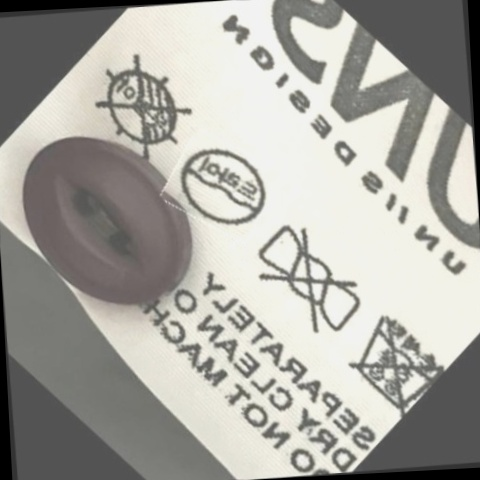DN_dry: (92, 55, 194, 160)
DN_wring: (251, 224, 367, 340)
dry_clean: (176, 139, 268, 235)
hand_wash: (345, 305, 442, 412)
